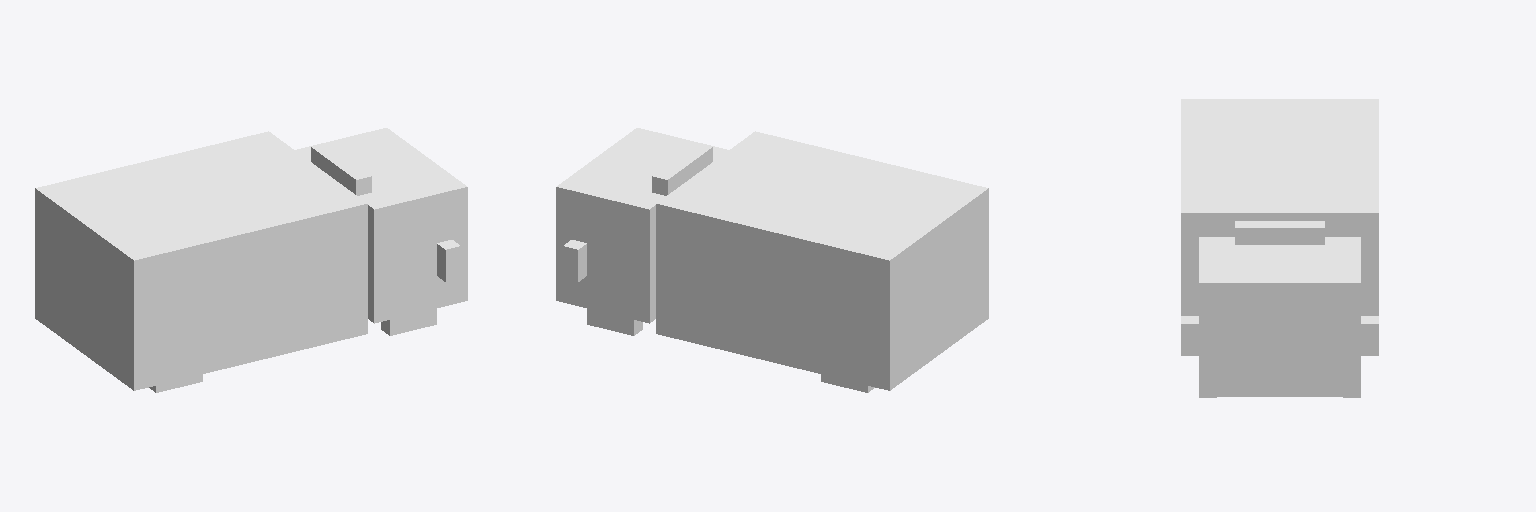
Rendered from blueTruck.obj.
The picture shows the model from 3 angles: view 1: azimuth 30°, elevation 25°; view 2: azimuth 150°, elevation 25°; view 3: azimuth 270°, elevation 25°; orthographic projection.
Visible parts, largest first — view 1: blueTruck; view 2: blueTruck; view 3: blueTruck.
Boxes of the visible parts, <box> form: blueTruck: <box>35,128,467,392</box>; blueTruck: <box>556,128,988,392</box>; blueTruck: <box>1181,99,1378,397</box>.
Bounding box in the file's own units: 22 × 9 × 11.